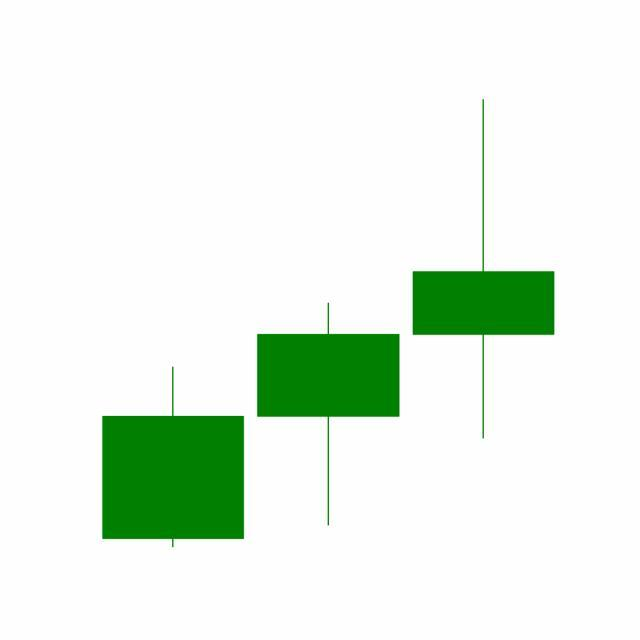Gravestone Doji: (406, 97, 562, 444)
